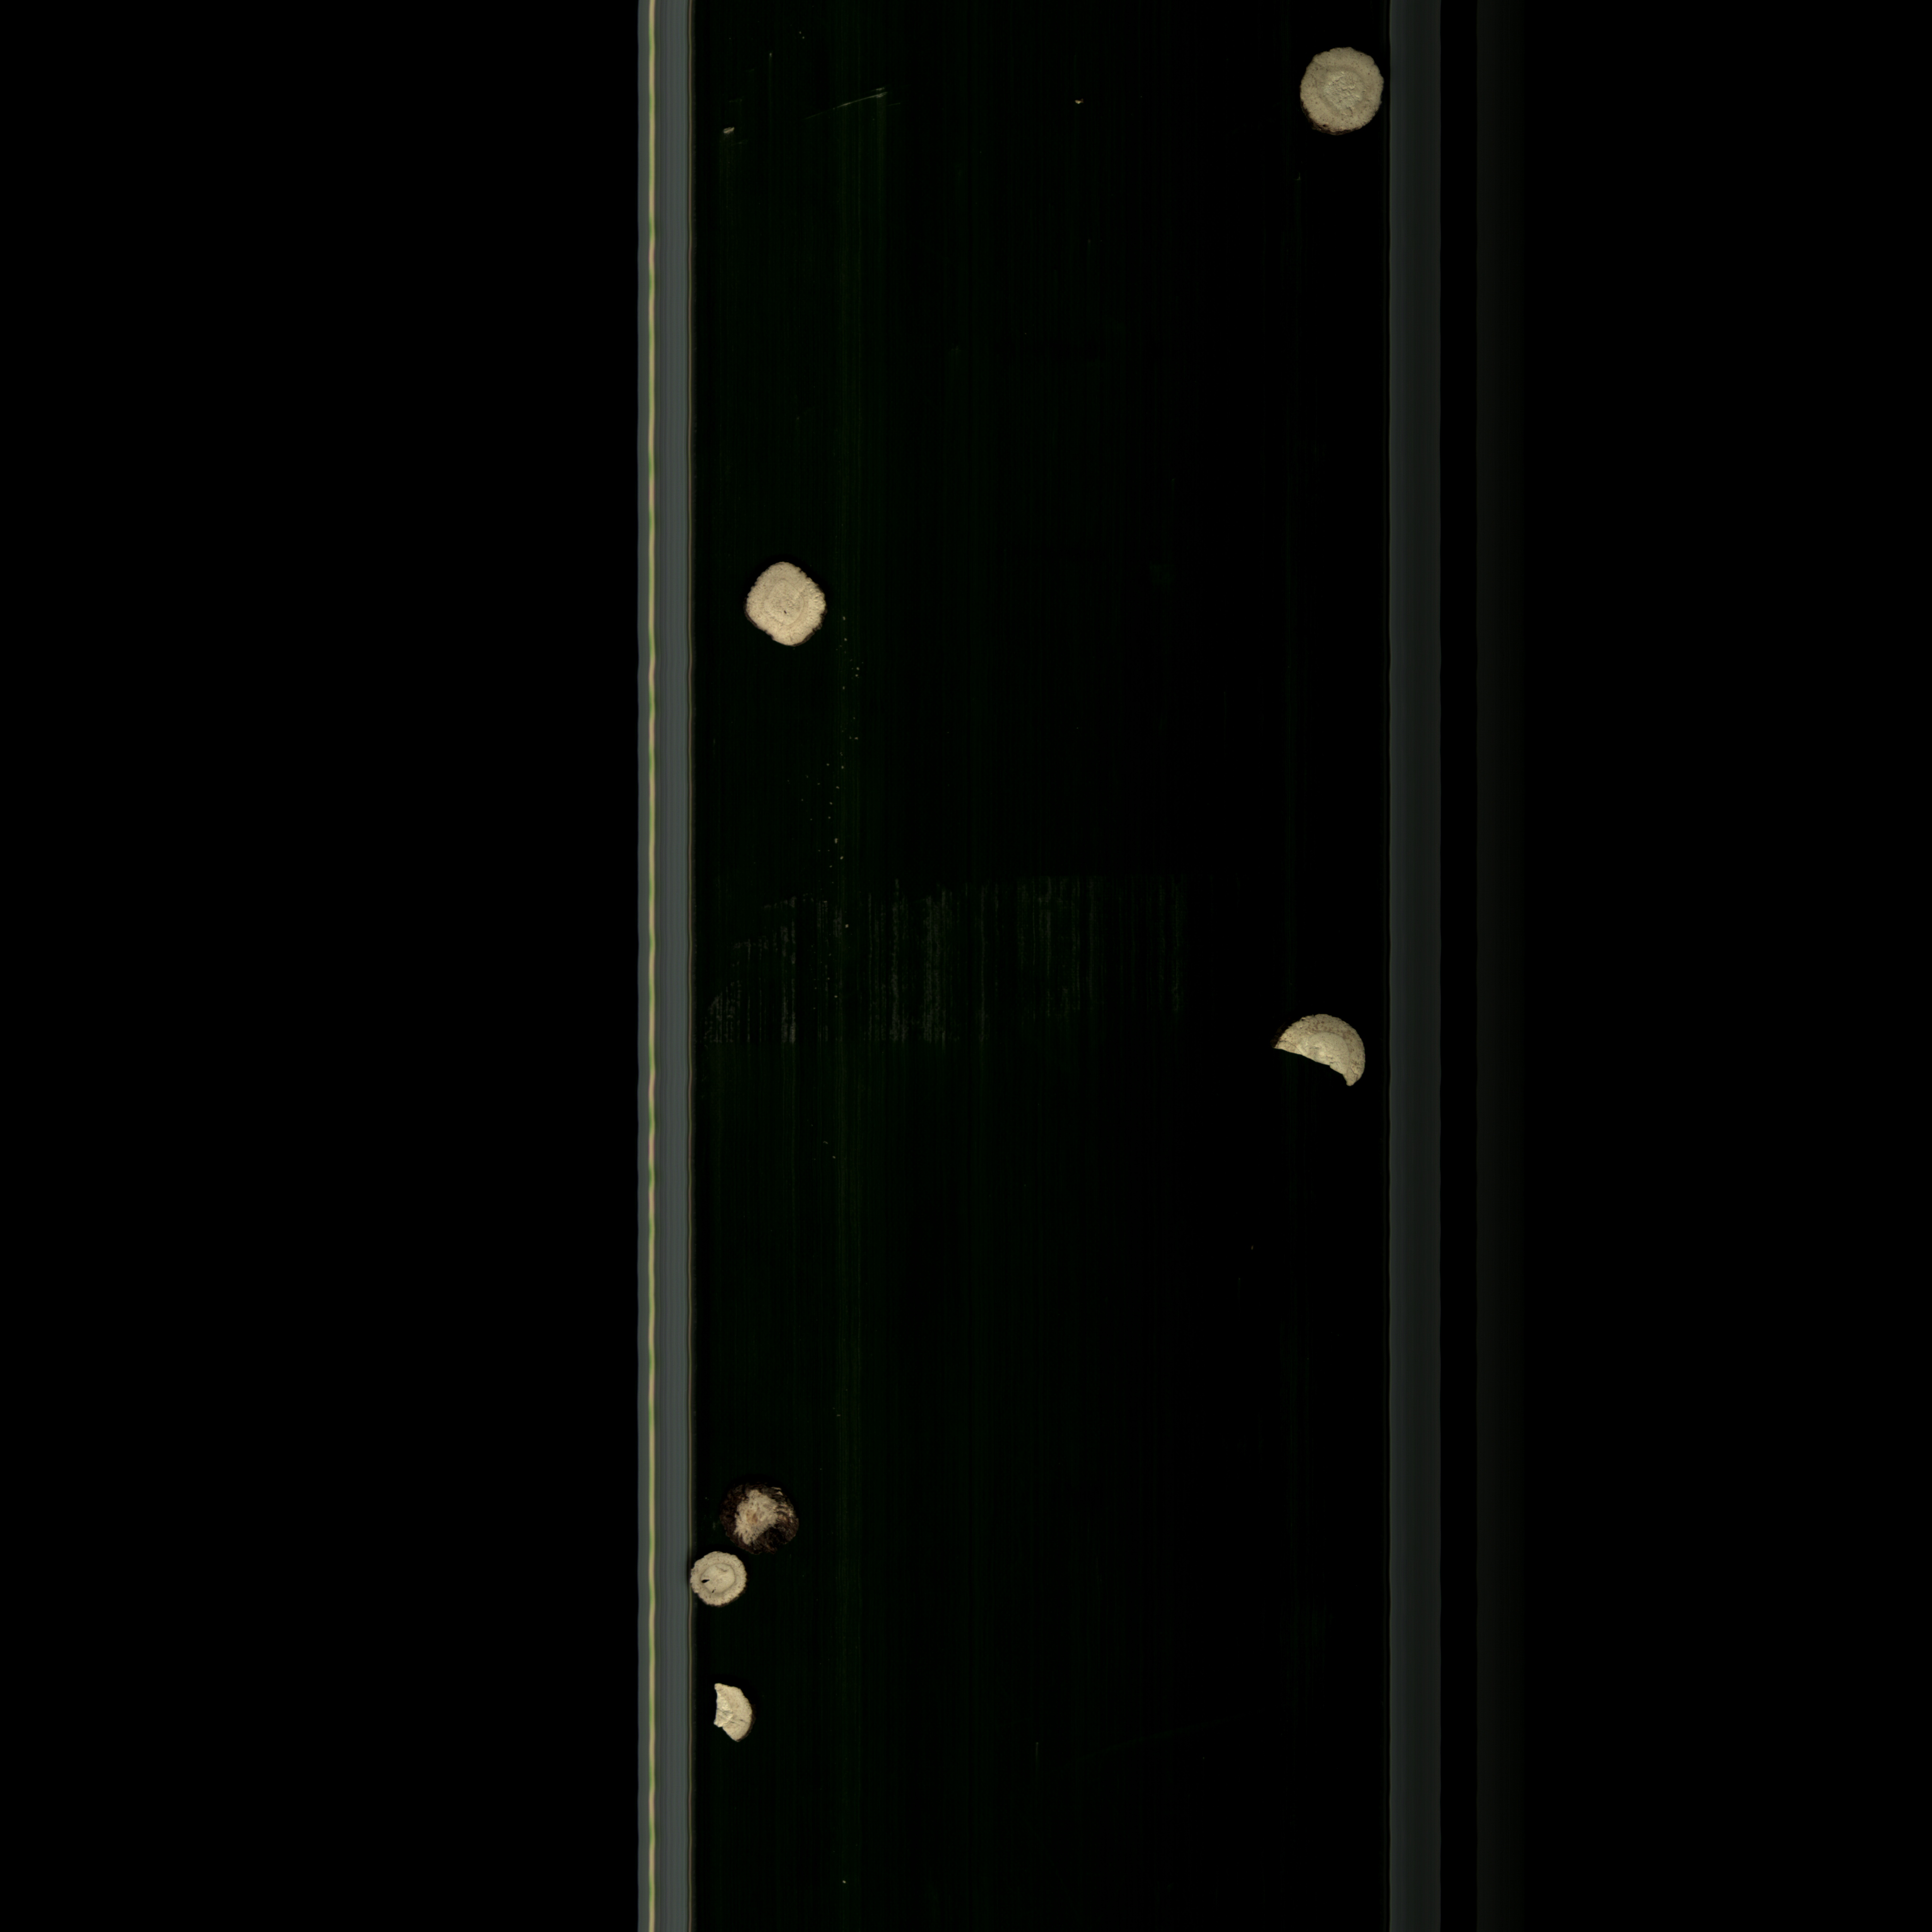bark: (711, 1474, 810, 1566)
debris: (1267, 998, 1375, 1100), (708, 1668, 770, 1757)
hole: (681, 1546, 759, 1621)
